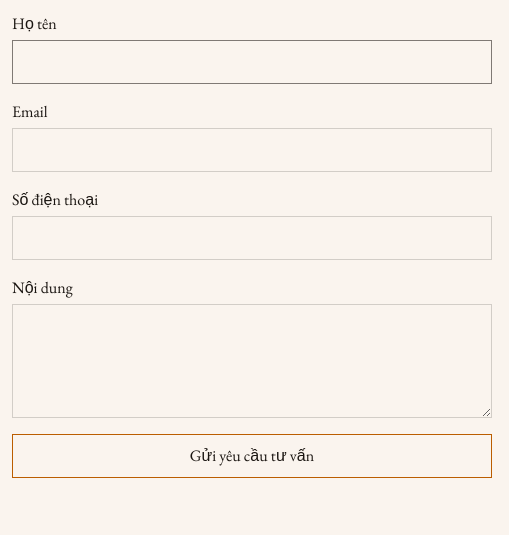
ContactForm › clears the fields and shows a silent success line (no toast) on success
Type "An" into the field labelled "Họ tên" at (252, 62), box [12,40,492,84]
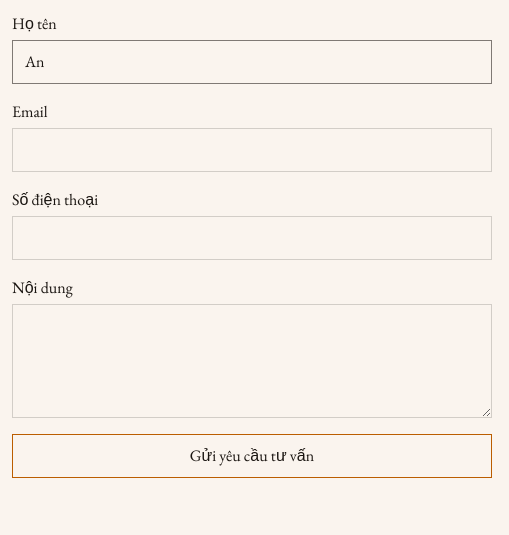
Type "an@example.com" into the field labelled "Email" at (252, 150), box [12,128,492,172]
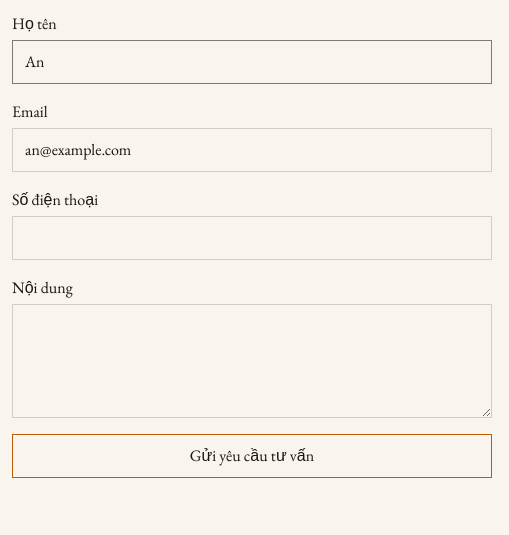
Type "Xin chào" into the text box labelled "Nội dung" at (252, 361), box [12,304,492,418]
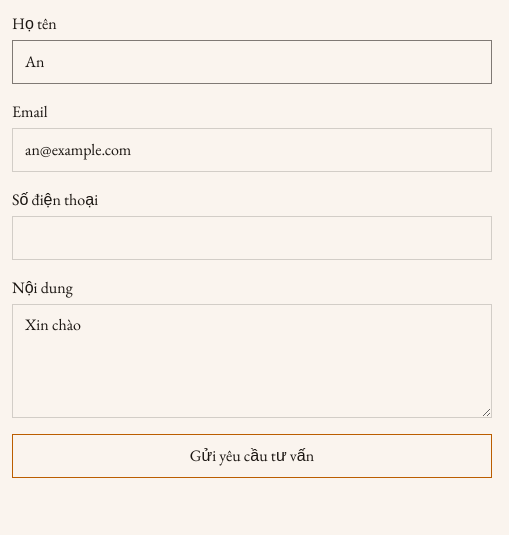
Click the button "Gửi yêu cầu tư vấn" at (252, 456), box [12,434,492,478]
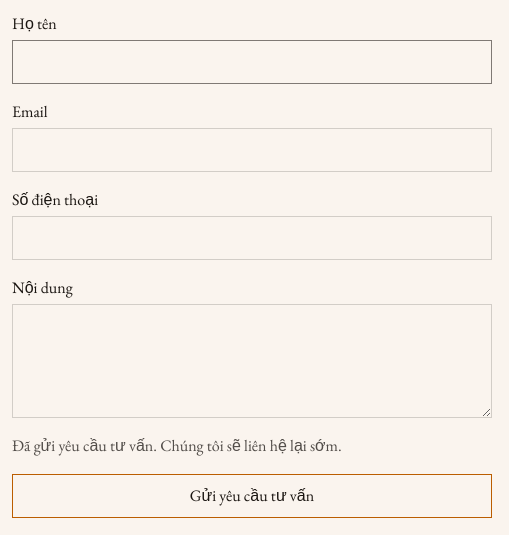
expect the text "Đã gửi yêu cầu tư vấn. Chúng tôi sẽ liên hệ lại sớm." is shown: met, box [12,435,342,456]
expect the field labelled "Họ tên" is empty: met, box [12,40,492,84]
